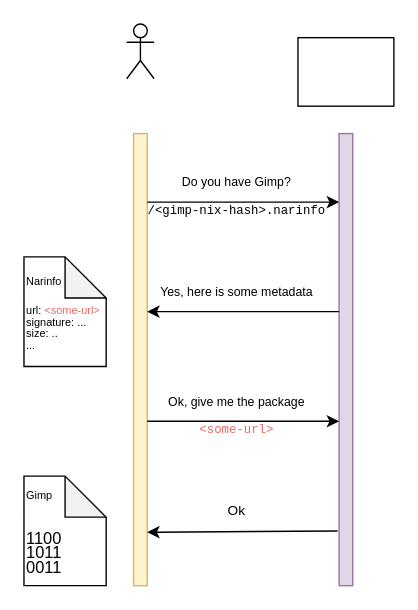
This 418x610 diagram has some shape labels left out. The centre of each missing label's shape, as x and y in pixels:
"Binary Cache" belongs at (x=345, y=71).
"User" belongs at (x=139, y=51).
